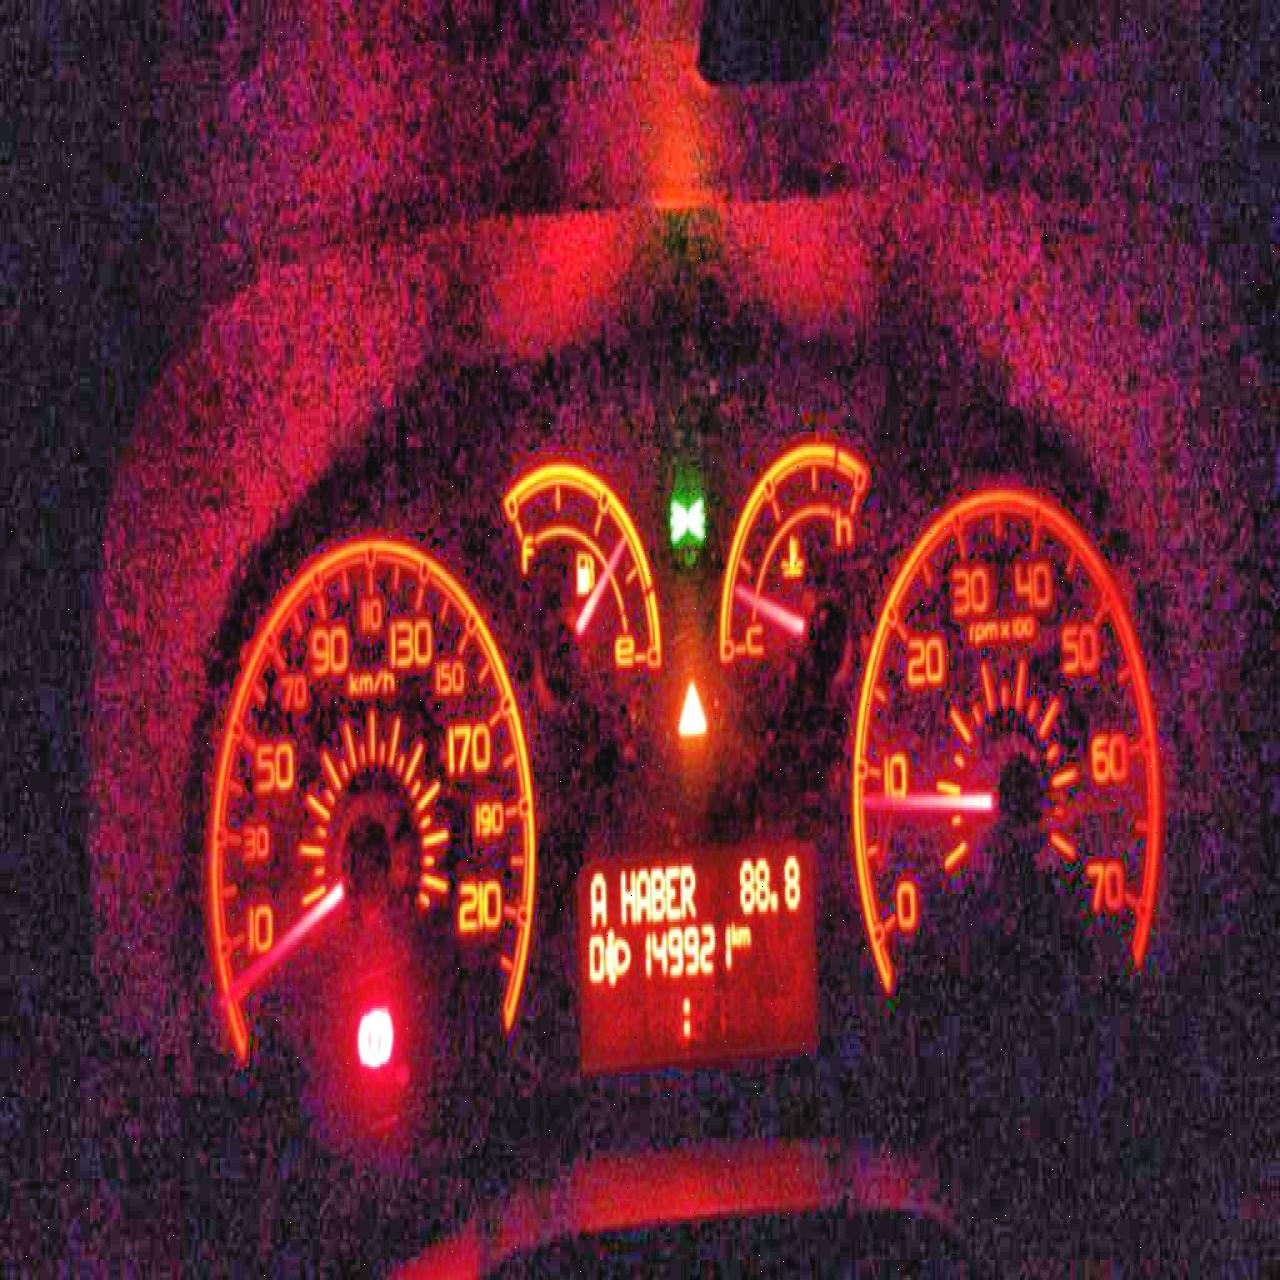-: (770, 886, 779, 912)
0: (588, 932, 604, 983)
1: (723, 919, 731, 971), (644, 927, 652, 978)
2: (700, 919, 715, 975)
4: (652, 927, 667, 975)
8: (784, 851, 802, 910), (754, 856, 770, 912), (738, 856, 754, 914)
9: (682, 922, 697, 973), (667, 925, 682, 975)
X: (587, 869, 606, 927), (619, 866, 635, 925), (635, 863, 651, 921), (681, 862, 696, 917), (665, 864, 680, 919), (651, 864, 663, 919), (680, 993, 689, 1041), (737, 925, 751, 945), (730, 919, 737, 945)
odometer: (573, 831, 826, 1075)
